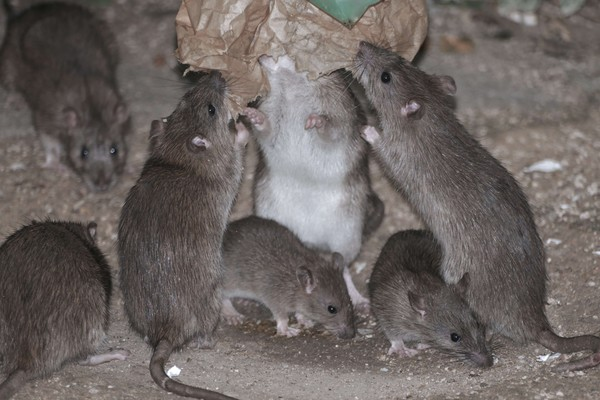mouse: (361, 35, 547, 235), (145, 65, 224, 376), (9, 5, 135, 184), (246, 56, 357, 236), (2, 220, 111, 377), (374, 239, 501, 373), (229, 217, 353, 342)
